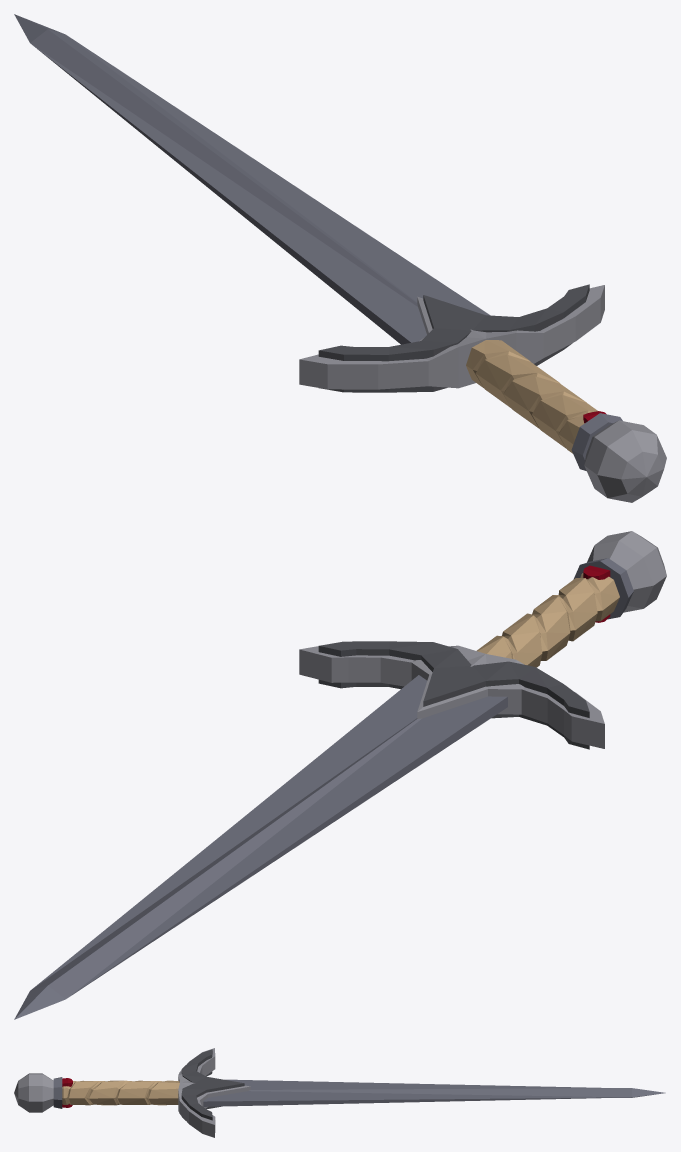
File: sword_1.glb
3 renders of one model, top to bottom at view 1: azimuth 30°, elevation 25°; view 2: azimuth 150°, elevation 25°; view 3: azimuth 270°, elevation 25°, orthographic. The views are drawn at different scales.
Visible parts, largest first — view 1: sword_1; view 2: sword_1; view 3: sword_1.
Boxes of the visible parts, x1=… form: sword_1: x1=14, y1=14, x2=666, y2=502; sword_1: x1=14, y1=531, x2=666, y2=1019; sword_1: x1=14, y1=1048, x2=665, y2=1137.
Size of the model in its own units: 0.2258 by 0.0515 by 0.8092.
1 material, 1 textured.
